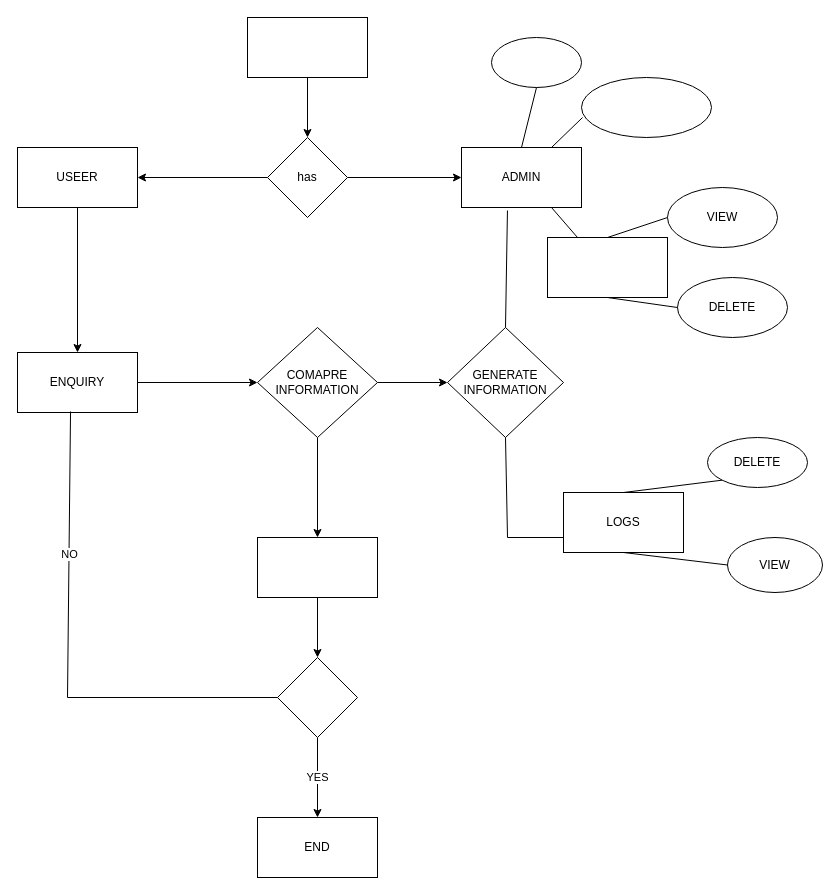
Image size: 840x895. Some labels were removed from this diagram. Here are the shapes that lost their labels. From the top down, the centre of each, then its label:
At pixel 307 47: "chatbot".
At pixel 536 62: "LOGIN ID".
At pixel 646 107: "LOGINPASSWORD".
At pixel 607 267: "FEEDBACK".
At pixel 317 567: "DISPLAY MESSAGE".
At pixel 317 697: "CHAT ENDED?".
